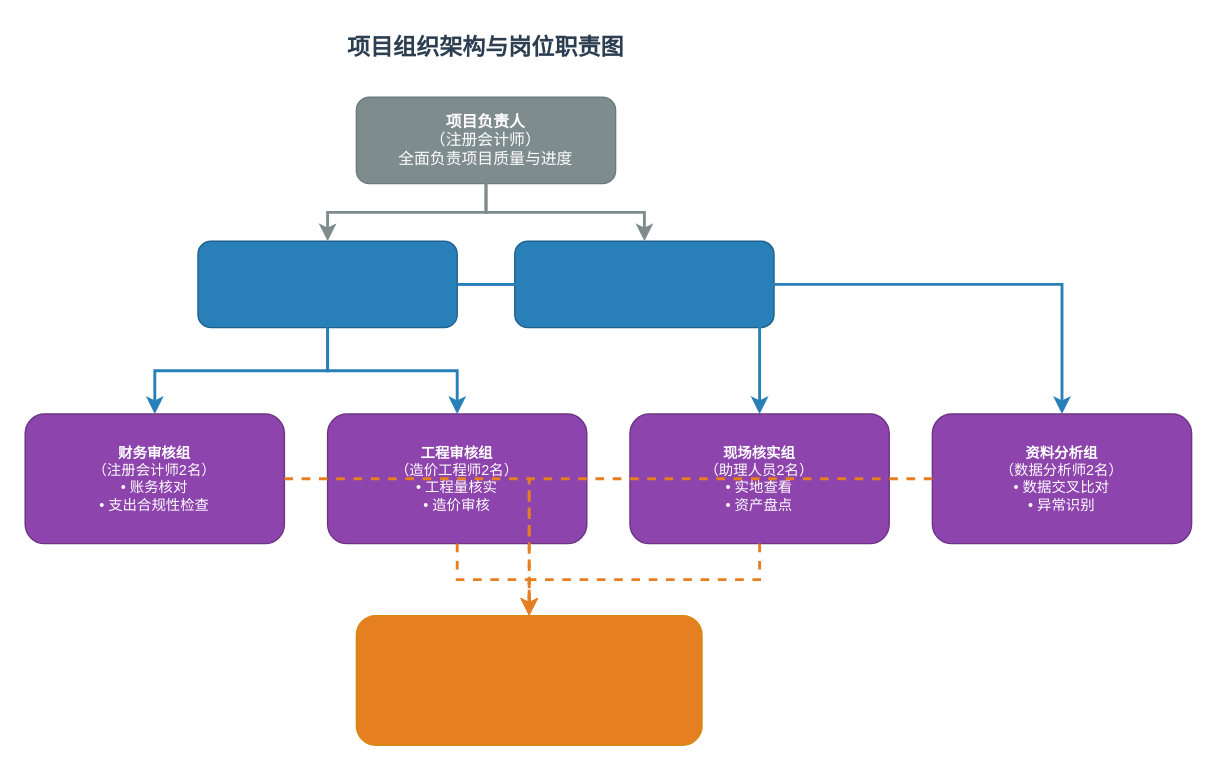
Image size: 1217x770. Some labels were removed from this diagram. The shapes that lost their labels are listed below. From the top down, each one's centre as x and y in pixels, then its label:
At point (327, 284): "审核组长 （注册会计师） 现场审核组织、三级复核".
At point (643, 284): "技术负责人 （高级工程师） 工程造价技术把关".
At point (528, 679): "质量控制部（独立） 三级复核制度 • 一级复核：项目组内交叉复核 • 二级复核：质控部复核 • 三级复核：技术负责人审定".
